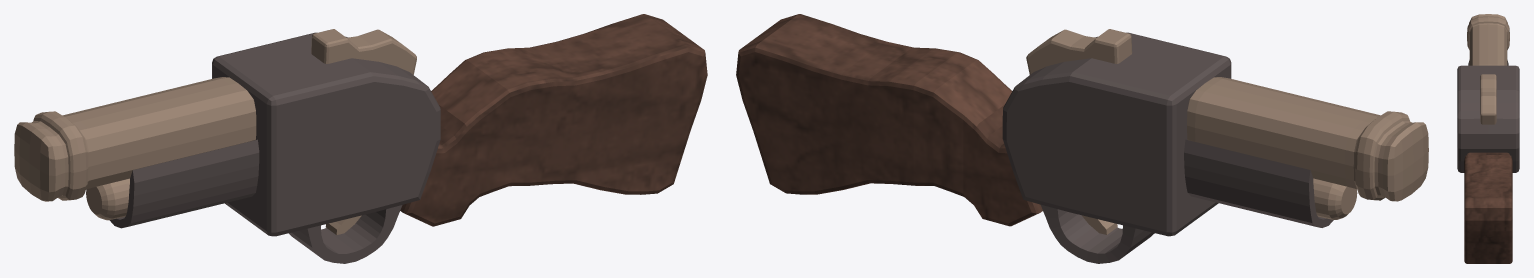
The model's file is gun.glb.
The picture shows the model from 3 angles, left to right: view 1: azimuth 30°, elevation 25°; view 2: azimuth 150°, elevation 25°; view 3: azimuth 270°, elevation 25°; orthographic projection. The views are drawn at different scales.
Visible parts, largest first — view 1: Cube.002, Cube, Cube.001, Circle, Circle.002, Cube.003, Circle.001; view 2: Cube.002, Cube, Cube.001, Circle, Circle.002, Cube.003, Circle.001; view 3: Cube.002, Cube, Cube.001, Cube.003.
Part boxes in pixels (left/top/right/bottom): Cube.002: left=400, top=14, right=707, bottom=226; Cube: left=212, top=32, right=440, bottom=236; Cube.001: left=14, top=77, right=256, bottom=201; Circle: left=109, top=139, right=259, bottom=228; Circle.002: left=289, top=205, right=402, bottom=263; Cube.003: left=311, top=29, right=416, bottom=74; Circle.001: left=86, top=178, right=129, bottom=220; Cube.002: left=736, top=14, right=1042, bottom=226; Cube: left=1002, top=32, right=1231, bottom=236; Cube.001: left=1187, top=77, right=1428, bottom=201; Circle: left=1184, top=139, right=1333, bottom=227; Circle.002: left=1041, top=205, right=1154, bottom=263; Cube.003: left=1026, top=29, right=1132, bottom=74; Circle.001: left=1313, top=178, right=1357, bottom=219; Cube.002: left=1464, top=152, right=1512, bottom=263; Cube: left=1457, top=65, right=1519, bottom=172; Cube.001: left=1467, top=14, right=1509, bottom=65; Cube.003: left=1480, top=74, right=1496, bottom=124.
Size of the model in its own units: 2.88 by 0.9069 by 0.465.
Materials: 3 (1 with a texture image).
